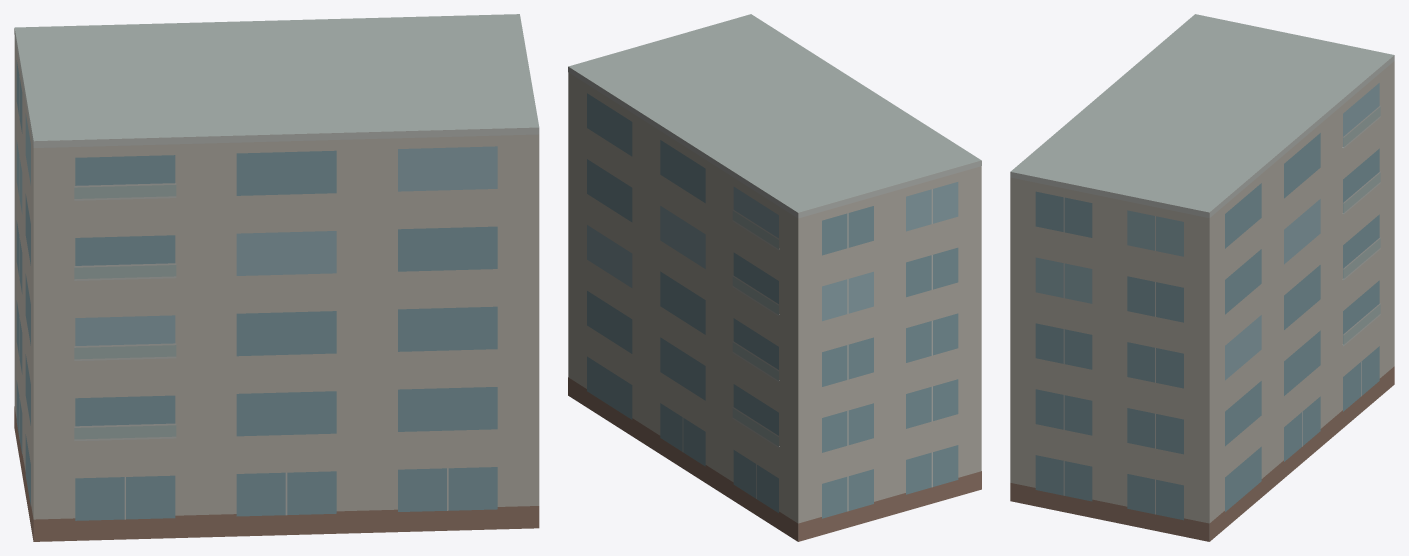
Rendered from survey-upis-32951799.glb.
The picture shows the model from 3 angles, left to right: view 1: azimuth 30°, elevation 25°; view 2: azimuth 150°, elevation 25°; view 3: azimuth 270°, elevation 25°; orthographic projection. The views are drawn at different scales.
Visible parts, largest first — view 1: survey-upis-32951799.tmp; view 2: survey-upis-32951799.tmp; view 3: survey-upis-32951799.tmp.
Part boxes in pixels (left/top/right/bottom): survey-upis-32951799.tmp: left=14, top=14, right=539, bottom=541; survey-upis-32951799.tmp: left=568, top=14, right=981, bottom=541; survey-upis-32951799.tmp: left=1010, top=14, right=1394, bottom=541.
Bounding box in the file's own units: 18.24 × 14.1 × 14.92.
